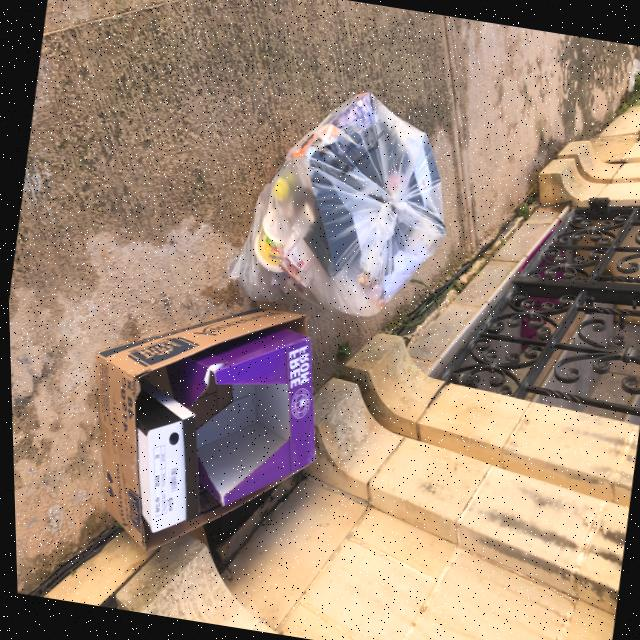Organic Waste -White Bag-: (221, 74, 460, 329)
Other: (84, 282, 332, 560)
